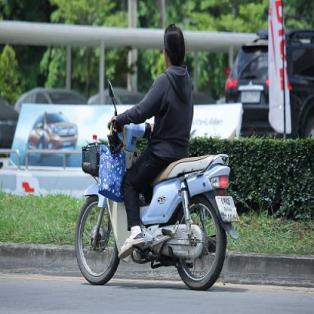Motocicleta: (72, 113, 230, 293)
